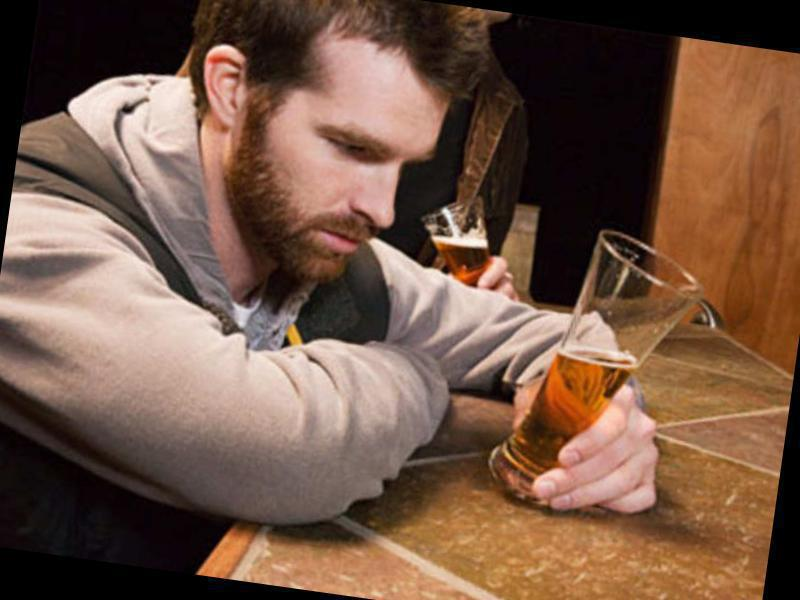Drunk: (288, 48, 436, 278)
